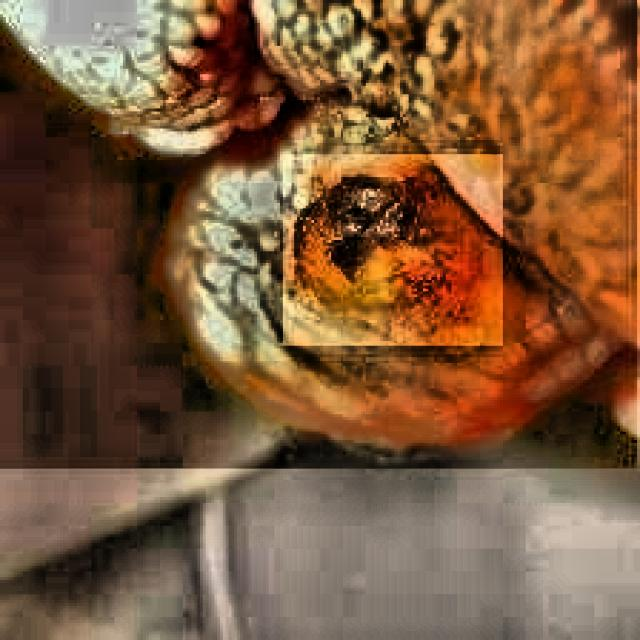Bumble foot: (0, 0, 637, 463), (317, 172, 409, 274)
